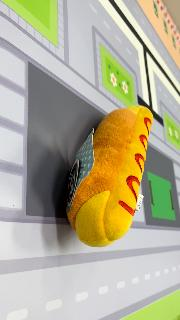hotdog: (66, 105, 154, 248)
